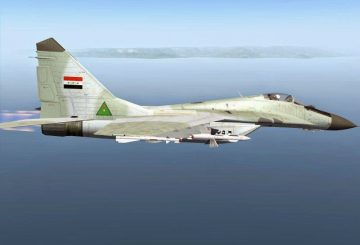Mig-29: (18, 31, 357, 164)
